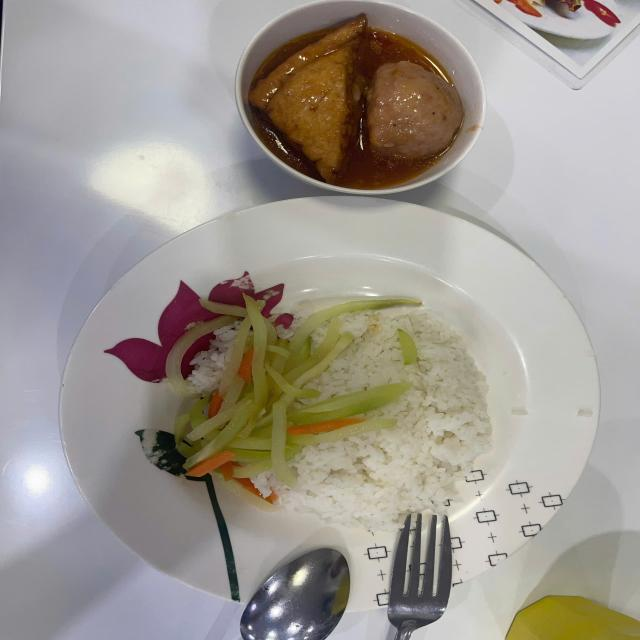com: (281, 310, 492, 531)
dau hu: (248, 16, 366, 180)
rau: (170, 293, 419, 504)
